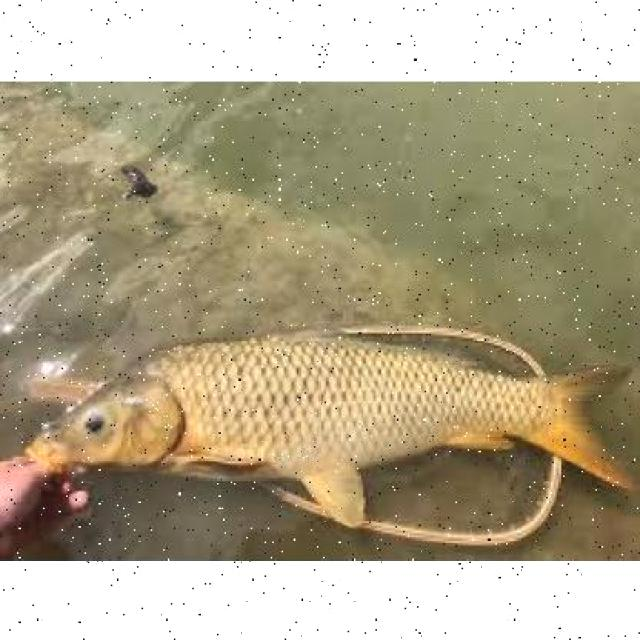ikan-mas: (39, 324, 638, 492)
